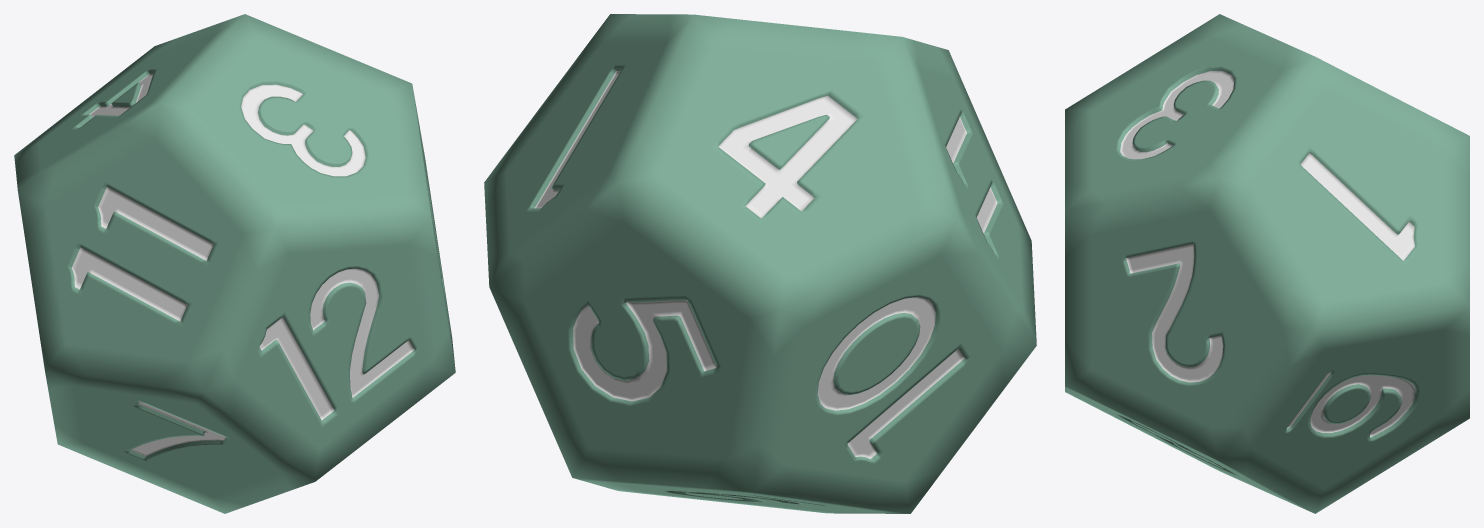
File: die_12.dae
The picture shows the model from 3 angles, left to right: view 1: azimuth 30°, elevation 25°; view 2: azimuth 150°, elevation 25°; view 3: azimuth 270°, elevation 25°; orthographic projection. The views are drawn at different scales.
Visible parts, largest first — view 1: Die12; view 2: Die12; view 3: Die12.
Part boxes in pixels (bbox=[...]): Die12: bbox=[14, 14, 455, 513]; Die12: bbox=[484, 14, 1036, 513]; Die12: bbox=[1065, 14, 1469, 513].
Size of the model in its own units: 1.38 by 1.38 by 1.13.
